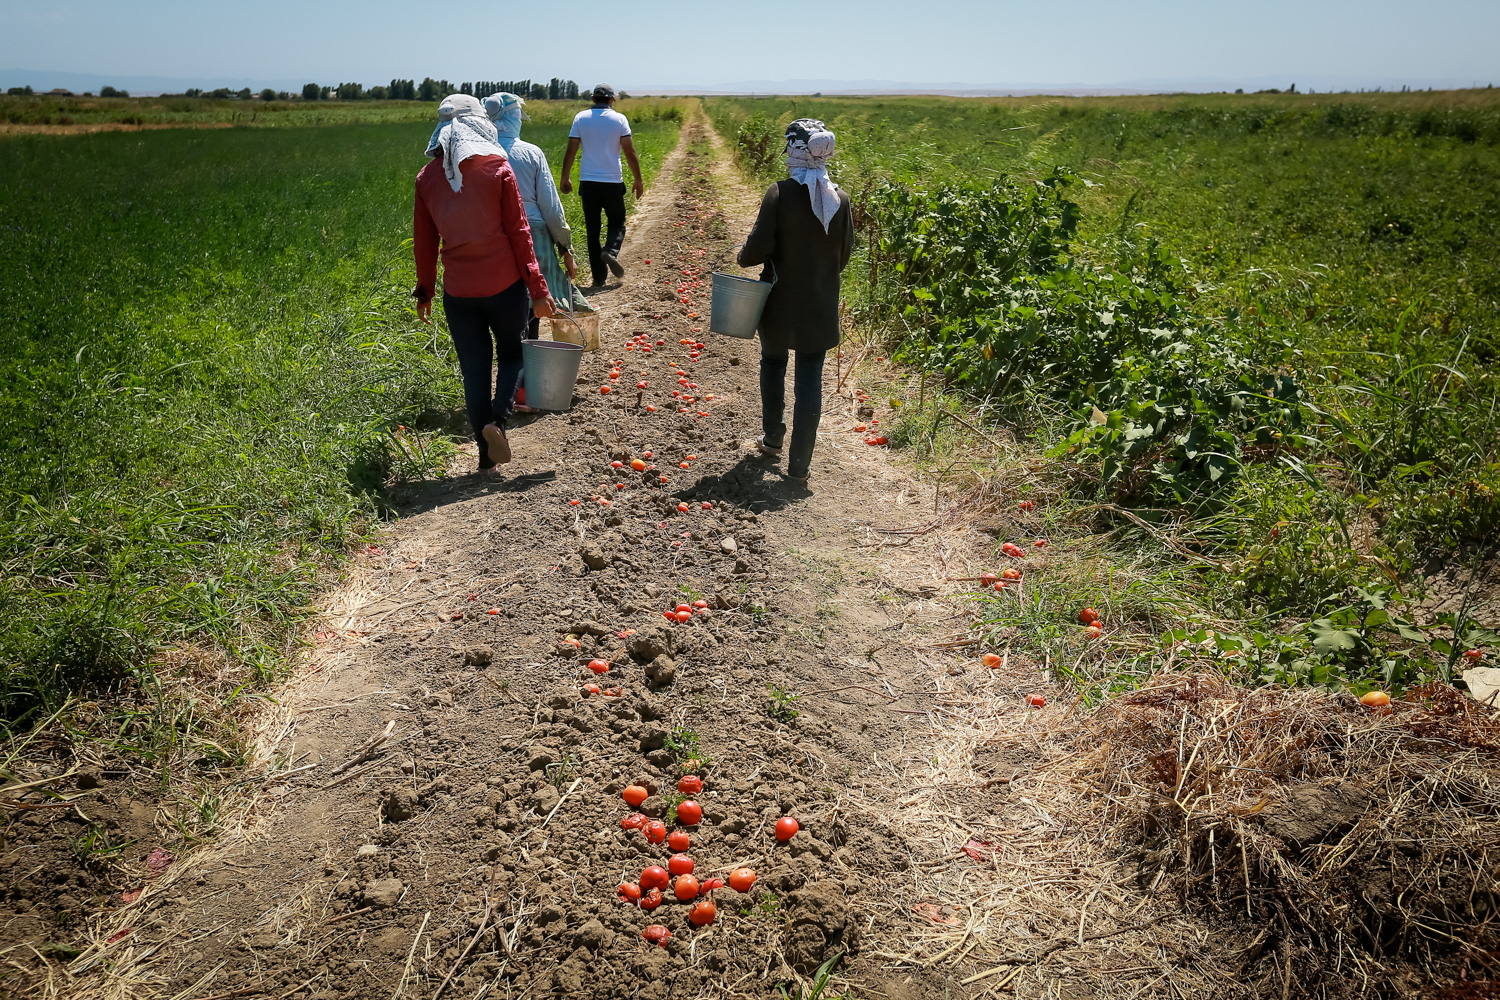person: (363, 66, 588, 492), (715, 112, 885, 506)
